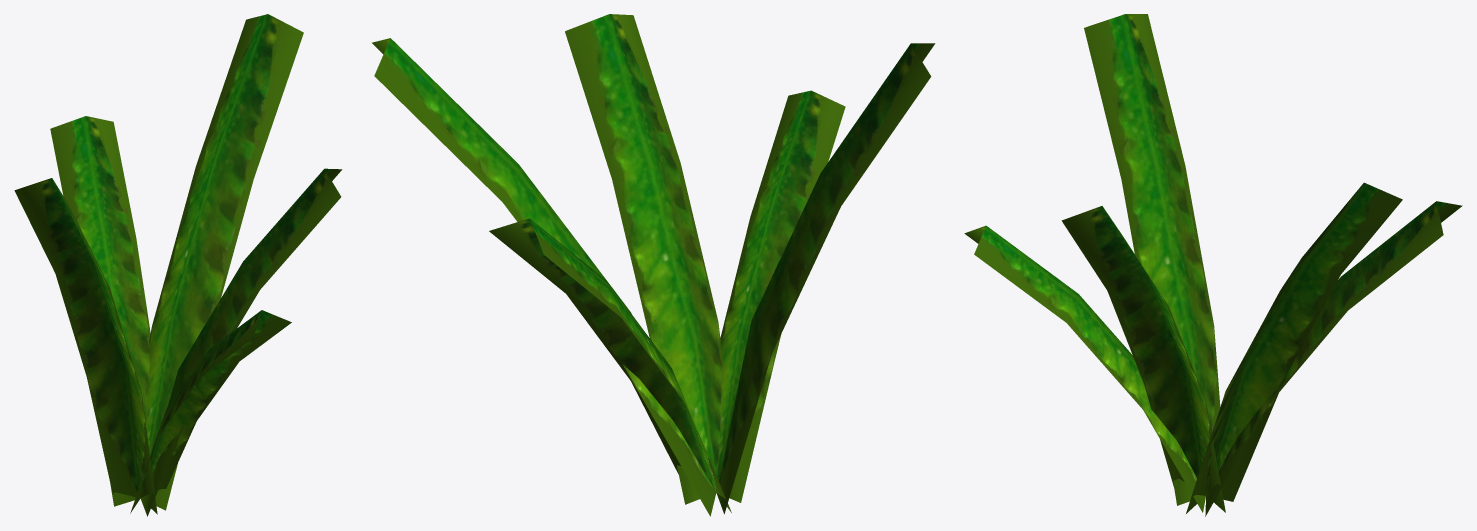
Rendered from INST_EKH_H2O_LILLYB_PLANT_01.fbx.
3 views of the same model, side by side, from view 1: azimuth 30°, elevation 25°; view 2: azimuth 150°, elevation 25°; view 3: azimuth 270°, elevation 25° (orthographic). The views are drawn at different scales.
Visible parts, largest first — view 1: INST_EKH_H2O_LILLYB_PLANT_01; view 2: INST_EKH_H2O_LILLYB_PLANT_01; view 3: INST_EKH_H2O_LILLYB_PLANT_01.
Boxes of the visible parts, x1,y1,x2,y2 form: INST_EKH_H2O_LILLYB_PLANT_01: [14, 14, 342, 516]; INST_EKH_H2O_LILLYB_PLANT_01: [372, 14, 935, 516]; INST_EKH_H2O_LILLYB_PLANT_01: [964, 14, 1462, 516].
Bounding box in the file's own units: 19987 × 19817 × 20815.
Materials: 1 (1 with a texture image).
